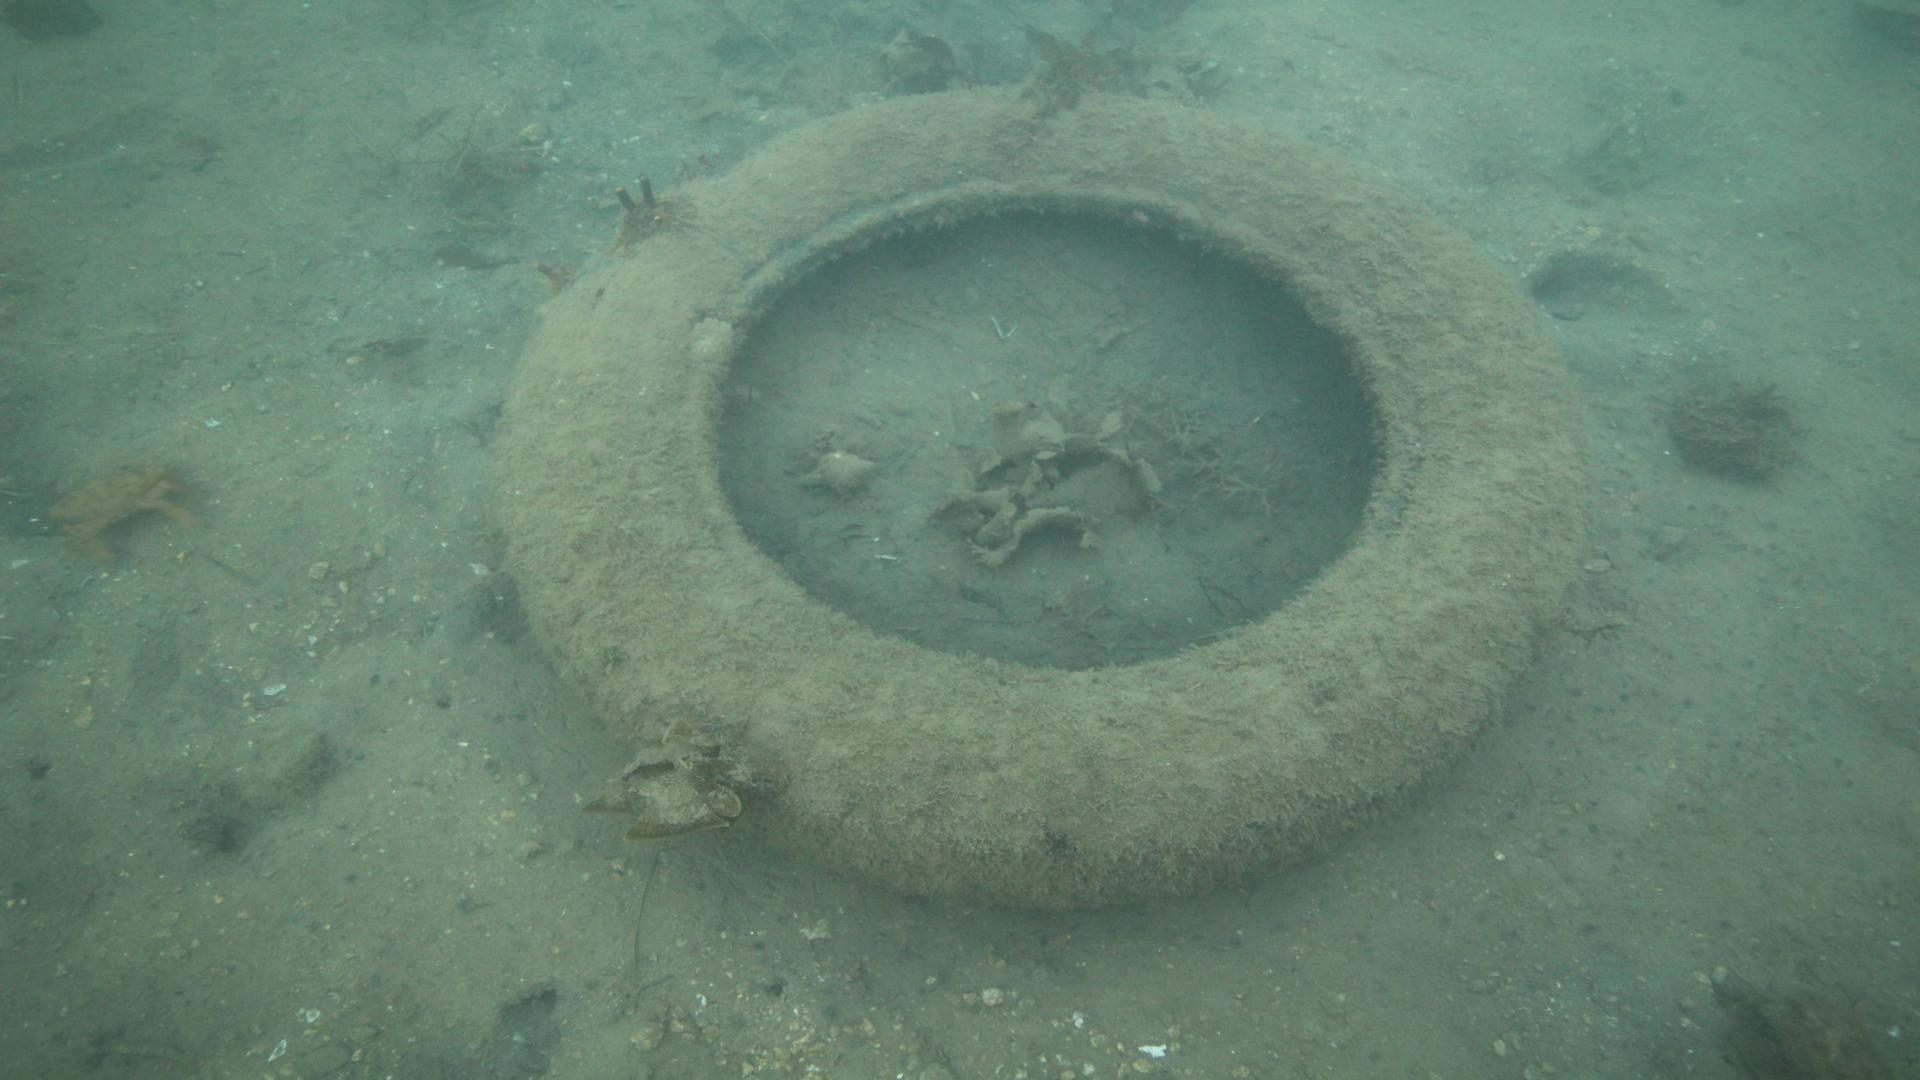tire: (489, 82, 1594, 915)
